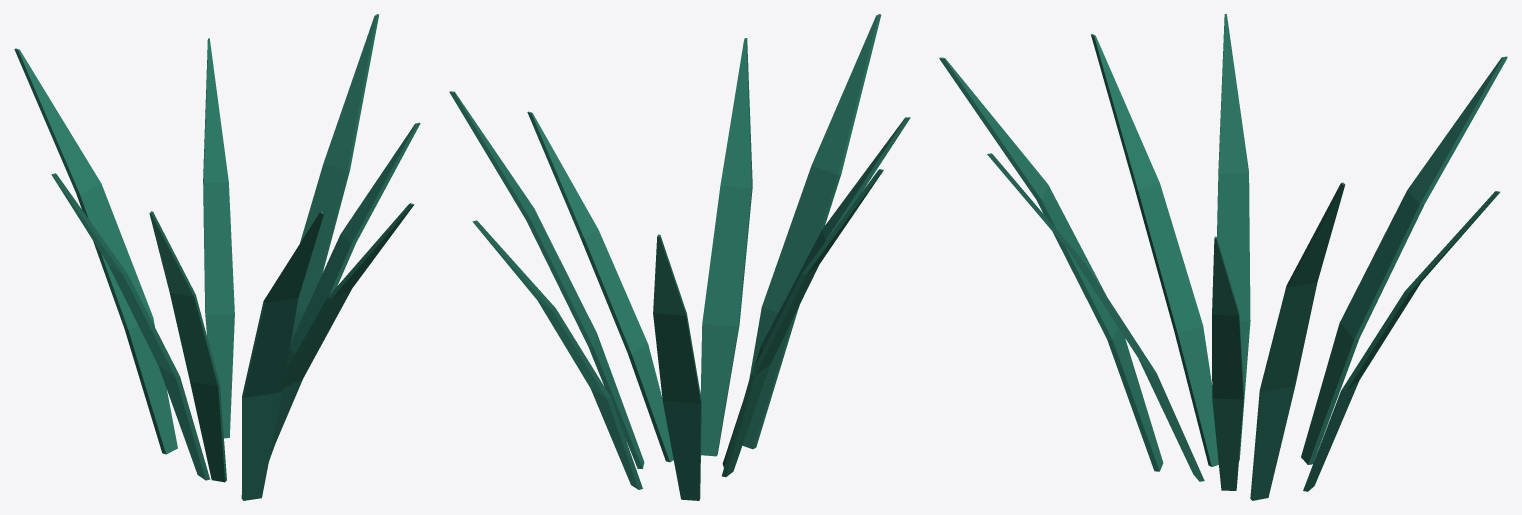
The model's file is plant_001b_sea_grass.glb.
The picture shows the model from 3 angles, left to right: view 1: azimuth 30°, elevation 25°; view 2: azimuth 150°, elevation 25°; view 3: azimuth 270°, elevation 25°; orthographic projection. The views are drawn at different scales.
Parts seen in each view (by area): view 1: plant_001b_sea_grass__mesh; view 2: plant_001b_sea_grass__mesh; view 3: plant_001b_sea_grass__mesh.
Boxes of the visible parts, x1,y1,x2,y2 form: plant_001b_sea_grass__mesh: [14, 14, 420, 500]; plant_001b_sea_grass__mesh: [449, 14, 910, 500]; plant_001b_sea_grass__mesh: [939, 14, 1507, 500].
Bounding box in the file's own units: 0.7754 × 0.714 × 0.9348.
